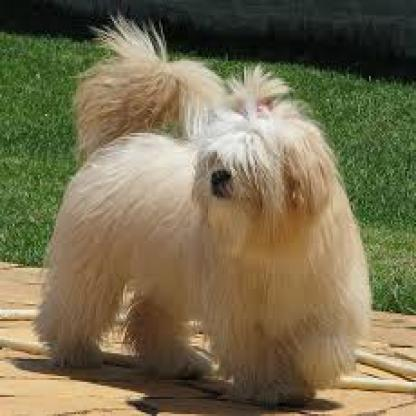Lhasa Apso: (27, 33, 381, 400)
